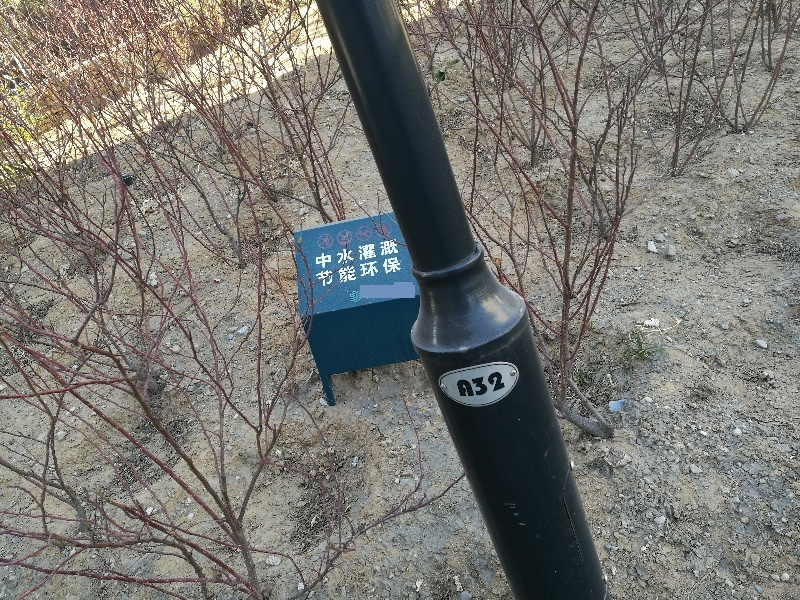text: (321, 238, 336, 271), (337, 238, 352, 271), (353, 238, 368, 271), (369, 238, 384, 271), (385, 238, 400, 271), (321, 256, 336, 288), (337, 256, 352, 288), (353, 256, 368, 288), (369, 256, 384, 288), (385, 256, 400, 288), (465, 371, 480, 402), (481, 371, 496, 402), (497, 371, 507, 402), (456, 371, 464, 402), (314, 238, 320, 271), (315, 256, 320, 288), (401, 256, 403, 288), (401, 238, 402, 271)
